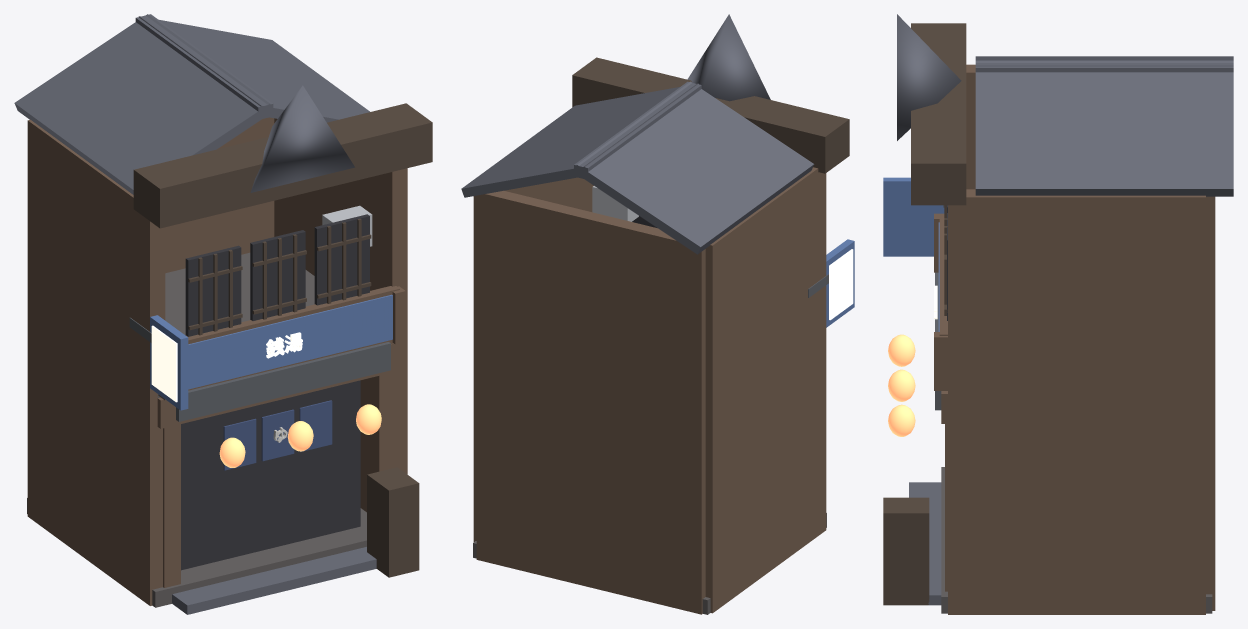
The model's file is prop_shop_sento.glb.
3 renders of one model, left to right at view 1: azimuth 30°, elevation 25°; view 2: azimuth 150°, elevation 25°; view 3: azimuth 270°, elevation 25°, orthographic. The views are drawn at different scales.
Visible parts, largest first — view 1: shop_sento; view 2: shop_sento; view 3: shop_sento.
Boxes of the visible parts, x1=… form: shop_sento: x1=14, y1=14, x2=432, y2=614; shop_sento: x1=461, y1=14, x2=854, y2=614; shop_sento: x1=883, y1=14, x2=1233, y2=614.
Size of the model in its own units: 3.6 by 6.4 by 3.8.
